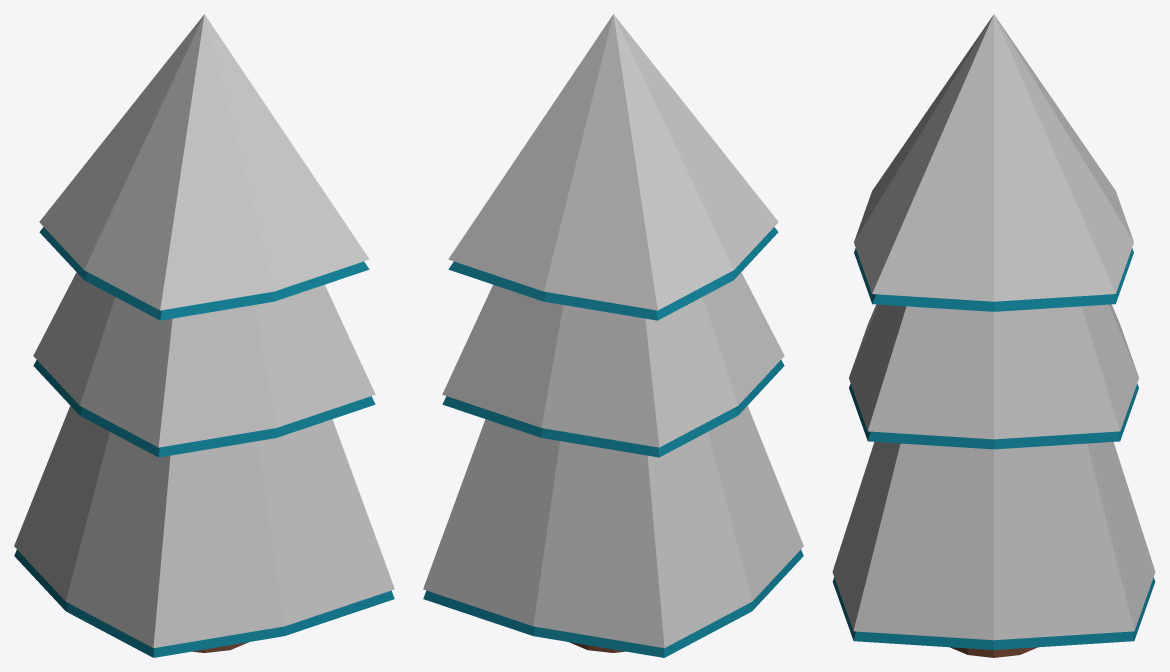
The model's file is Tree_23_winter_blue_vc.fbx.
3 renders of one model, left to right at view 1: azimuth 30°, elevation 25°; view 2: azimuth 150°, elevation 25°; view 3: azimuth 270°, elevation 25°, orthographic.
Visible parts, largest first — view 1: Tree_23_winter_blue_vc; view 2: Tree_23_winter_blue_vc; view 3: Tree_23_winter_blue_vc.
Boxes of the visible parts, box(x1,y1,x2,y2) form: Tree_23_winter_blue_vc: box(14, 14, 394, 657); Tree_23_winter_blue_vc: box(423, 14, 803, 657); Tree_23_winter_blue_vc: box(832, 14, 1155, 657).
Size of the model in its own units: 90.18 by 192 by 90.18.
